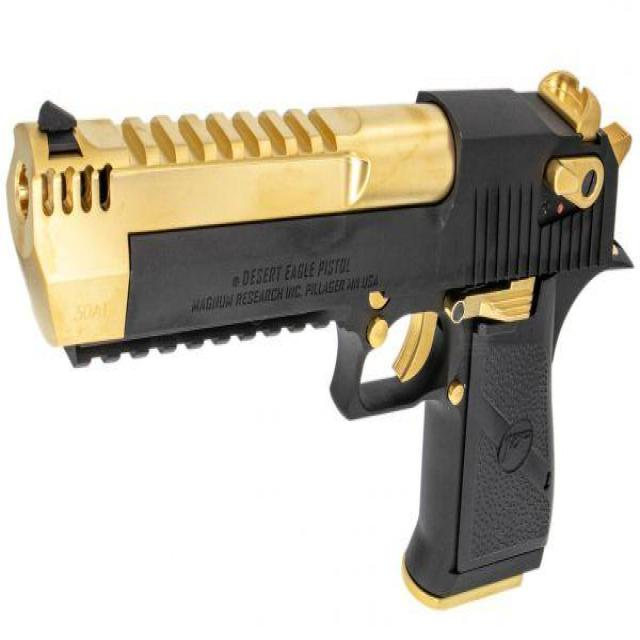gun: (3, 72, 635, 611)
